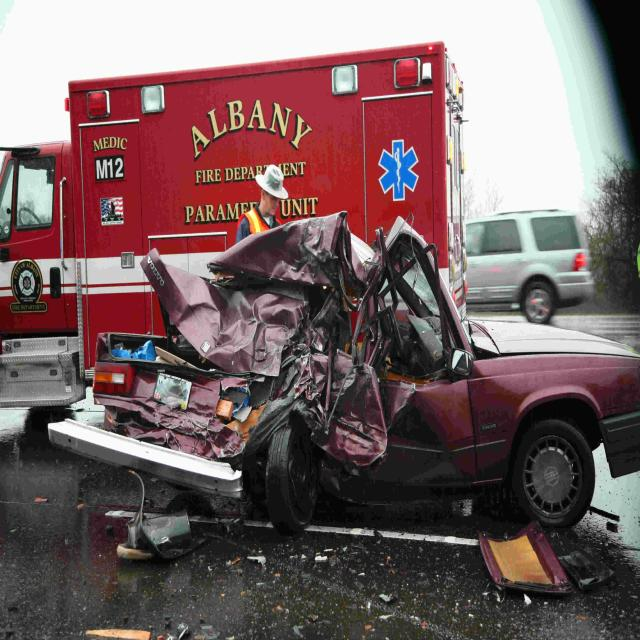crush: (93, 211, 502, 501)
